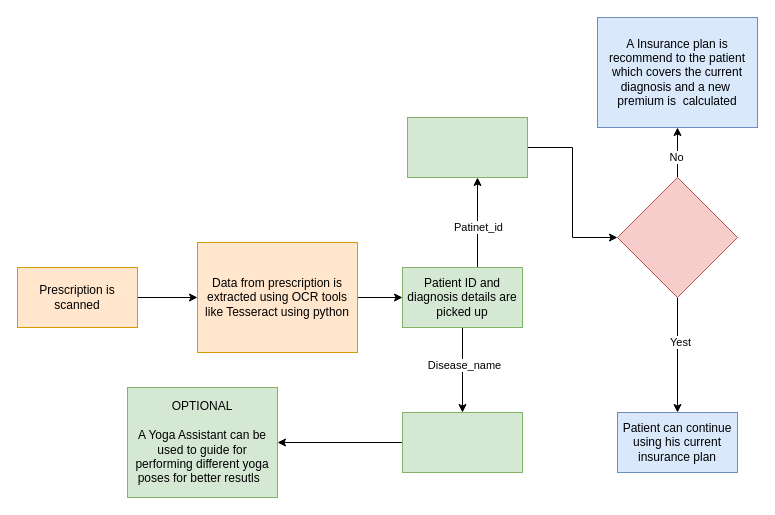
Some shapes in this 775 by 515 pixel diagram are drawn without their labels. Each missing label, with the centre of its shape:
"A Yoga Asan (Pose) Is suggested for the diagnosis history of patient" goes at point 462,442.
"Patient ID is used to fetch Health Insurance Profile" goes at point 467,147.
"Wheteher current diagnosis is covered under his plan" goes at point 677,237.
